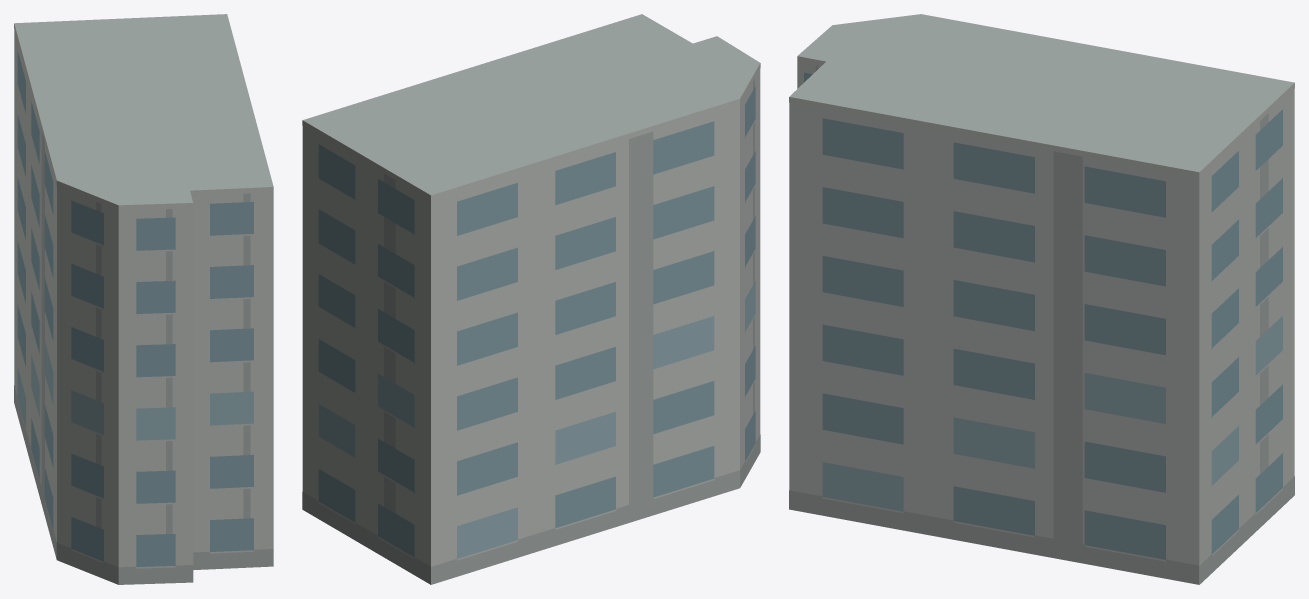
File: survey-upis-32818065.glb
3 views of the same model, side by side, from view 1: azimuth 30°, elevation 25°; view 2: azimuth 150°, elevation 25°; view 3: azimuth 270°, elevation 25° (orthographic). The views are drawn at different scales.
Visible parts, largest first — view 1: survey-upis-32818065.tmp; view 2: survey-upis-32818065.tmp; view 3: survey-upis-32818065.tmp.
Boxes of the visible parts, x1,y1,x2,y2 form: survey-upis-32818065.tmp: (14, 14, 273, 584); survey-upis-32818065.tmp: (302, 14, 760, 584); survey-upis-32818065.tmp: (789, 14, 1294, 584).
Size of the model in its own units: 14.12 by 17.15 by 19.06.
